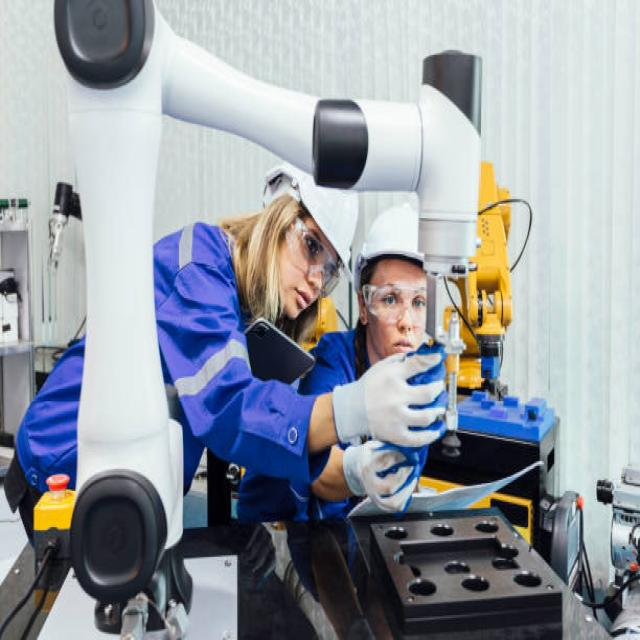Robotic-arm: (54, 0, 479, 640)
